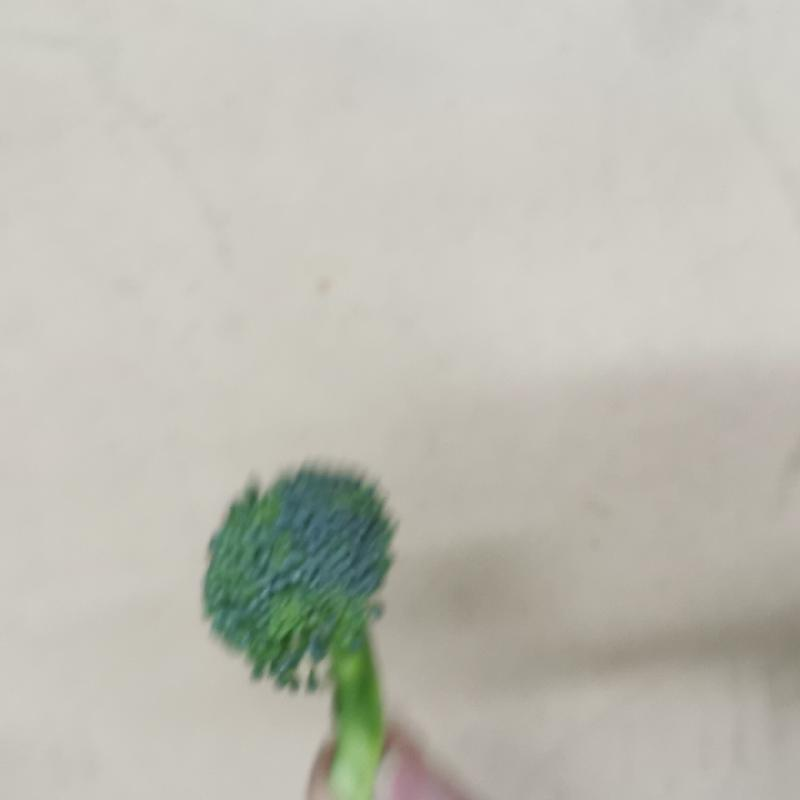broccoli: (198, 461, 419, 800)
